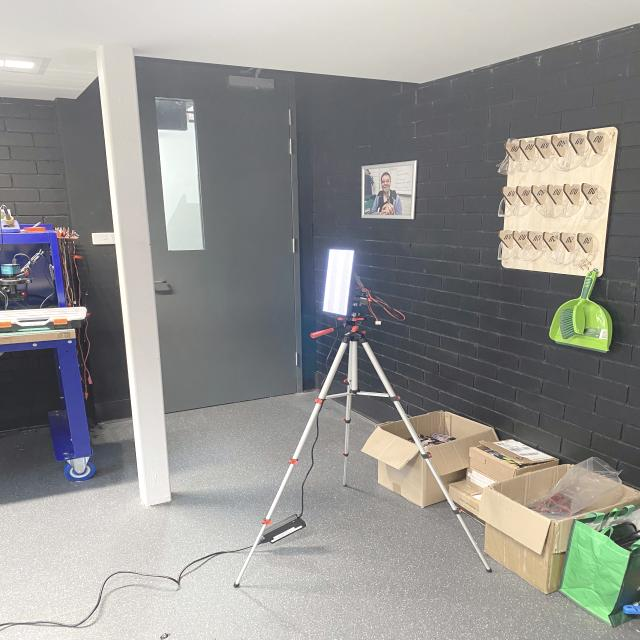matrix: (315, 244, 360, 316)
